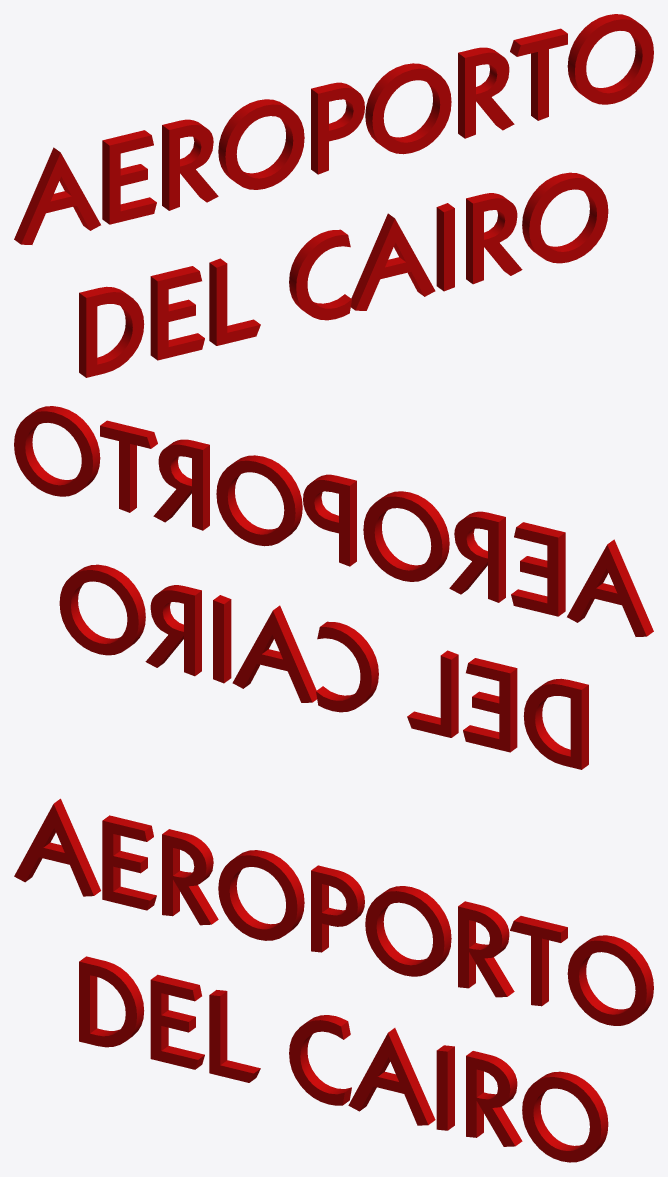
File: AfricanAirportSign.fbx
3 views of the same model, one above another, from view 1: azimuth 30°, elevation 25°; view 2: azimuth 150°, elevation 25°; view 3: azimuth 330°, elevation 25° (orthographic).
Parts seen in each view (by area): view 1: AEROPORTO_DEL_CA1; view 2: AEROPORTO_DEL_CA1; view 3: AEROPORTO_DEL_CA1.
Part boxes in pixels (x1,y1,x2,y2): AEROPORTO_DEL_CA1: (14, 14, 653, 377); AEROPORTO_DEL_CA1: (14, 406, 653, 769); AEROPORTO_DEL_CA1: (14, 798, 653, 1162).
Bounding box in the file's own units: 1.54 × 0.5435 × 0.03.
